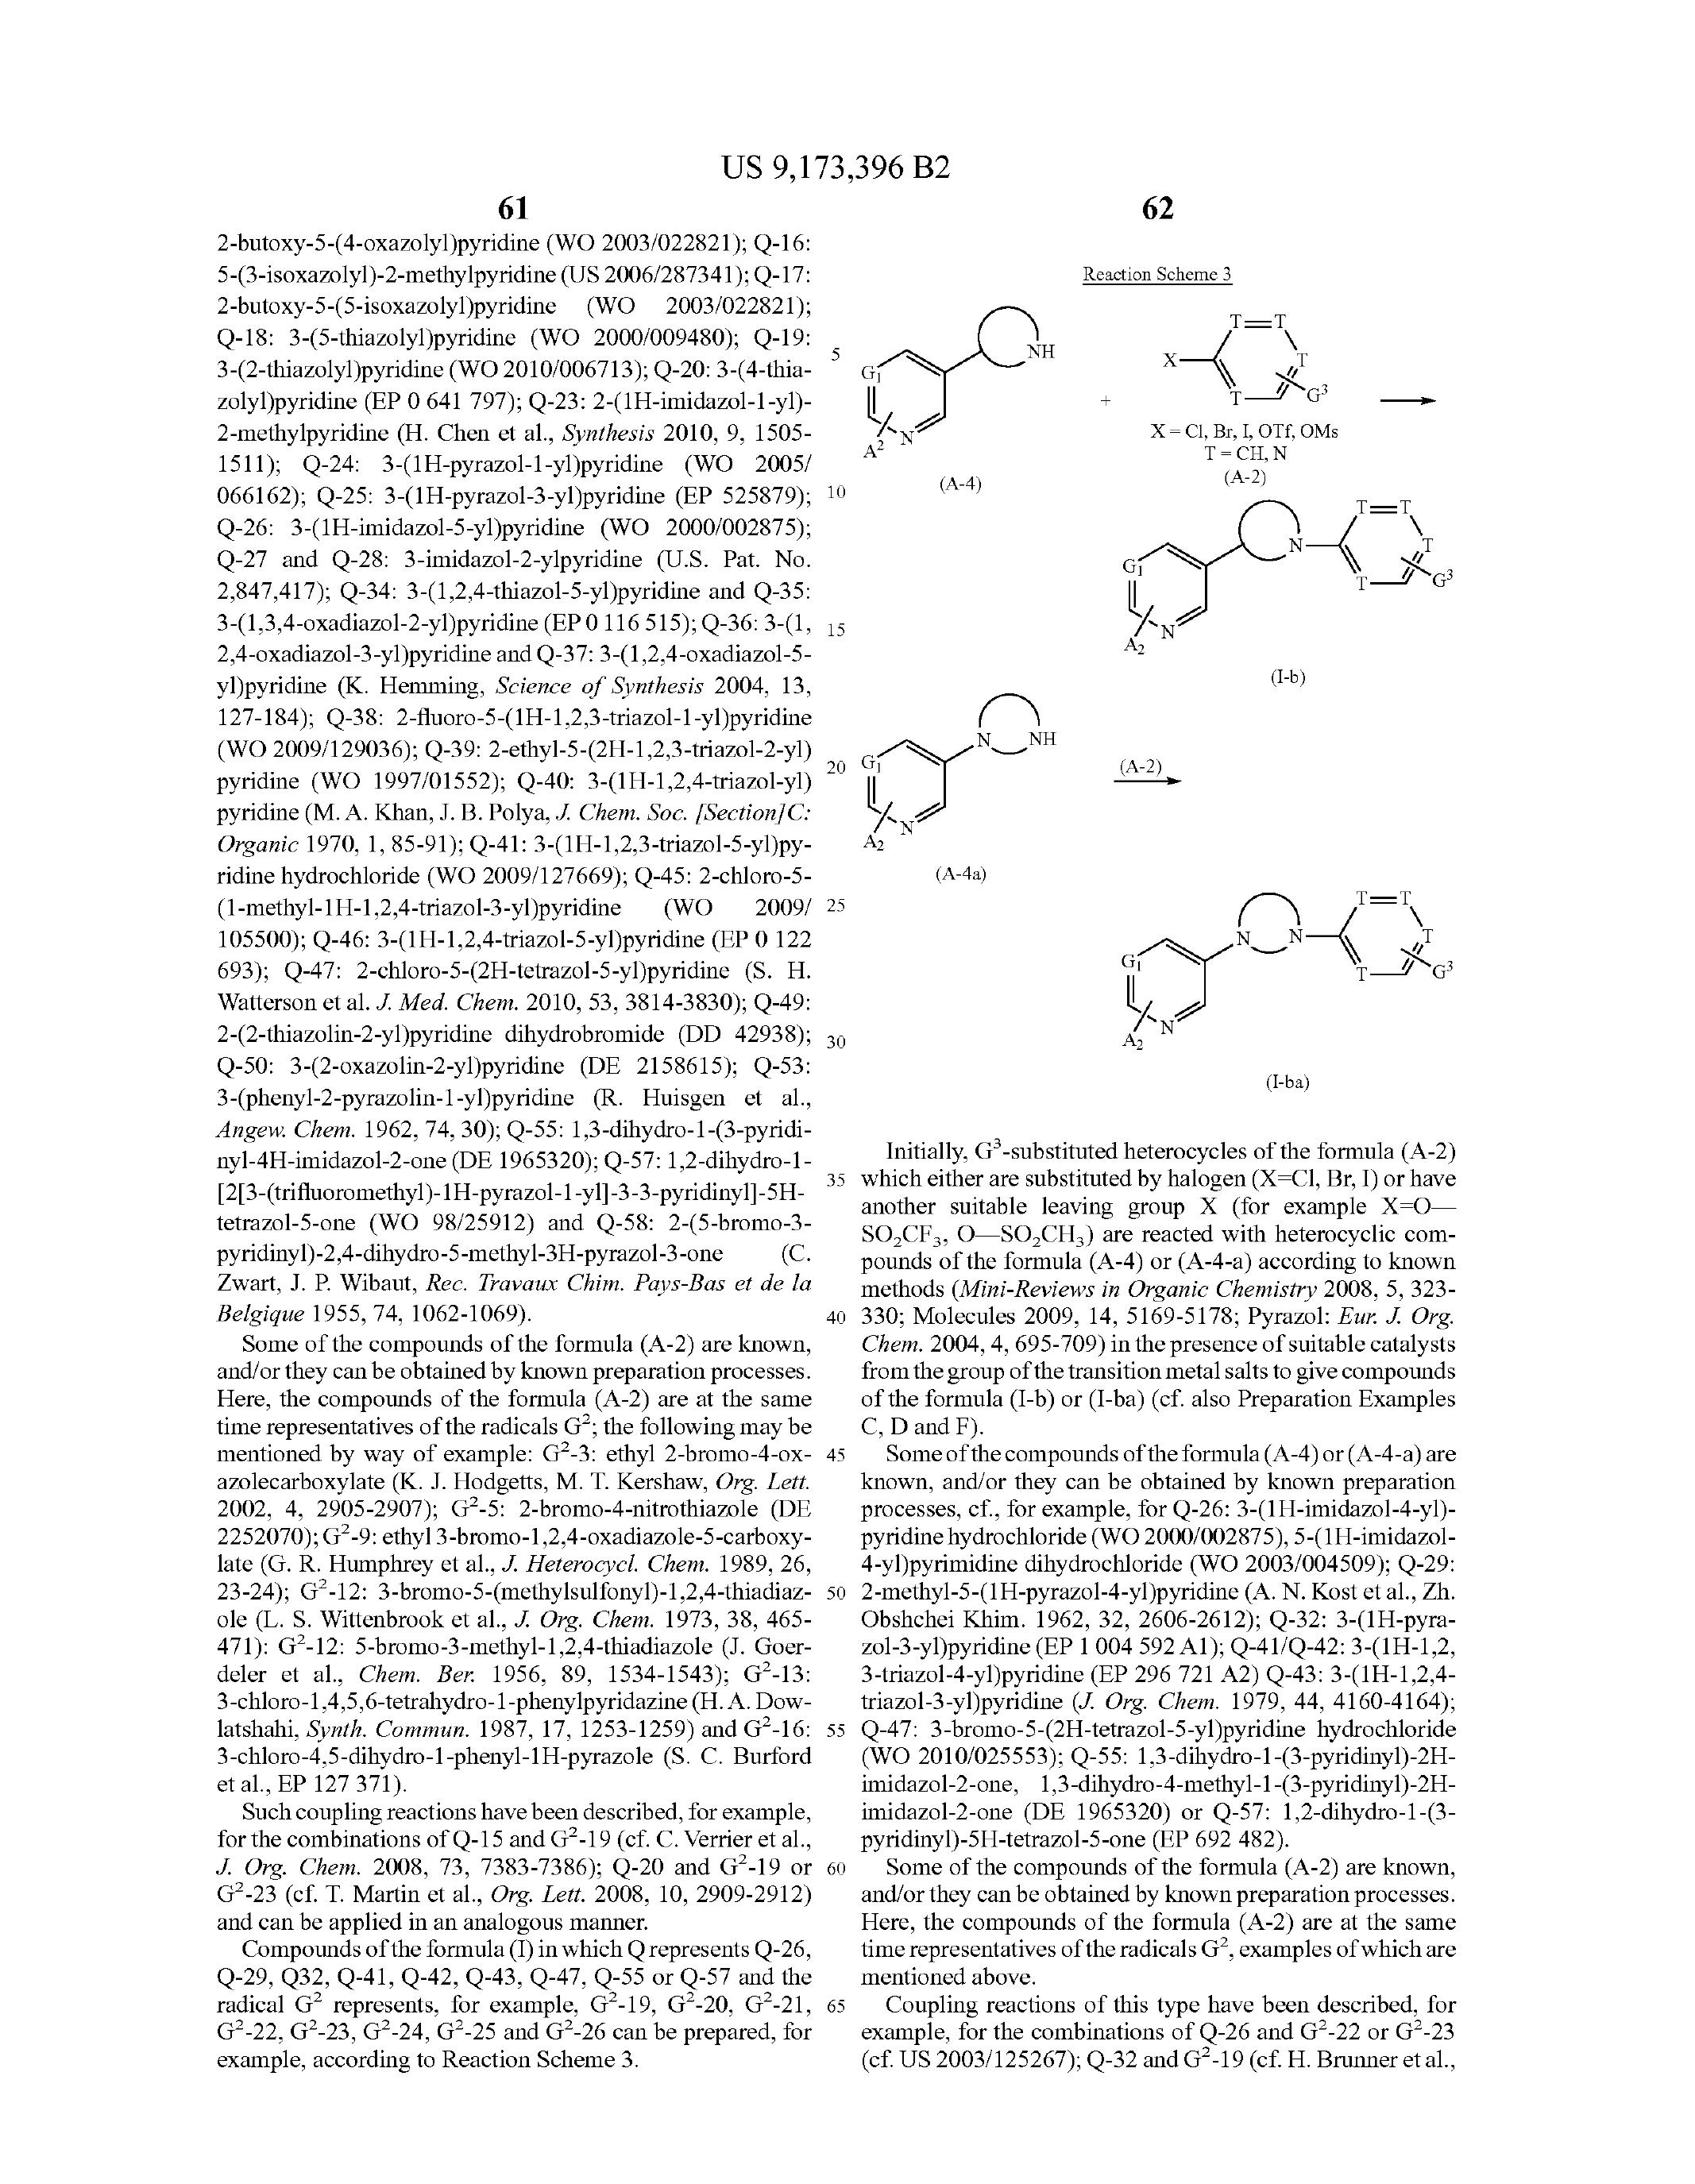reactions: (856, 239, 1530, 1067)
